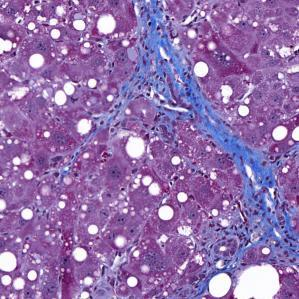fibrosis: (176, 112, 298, 259), (124, 13, 207, 126)
